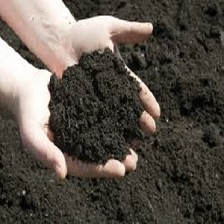loamy_soil: (43, 41, 159, 172)
